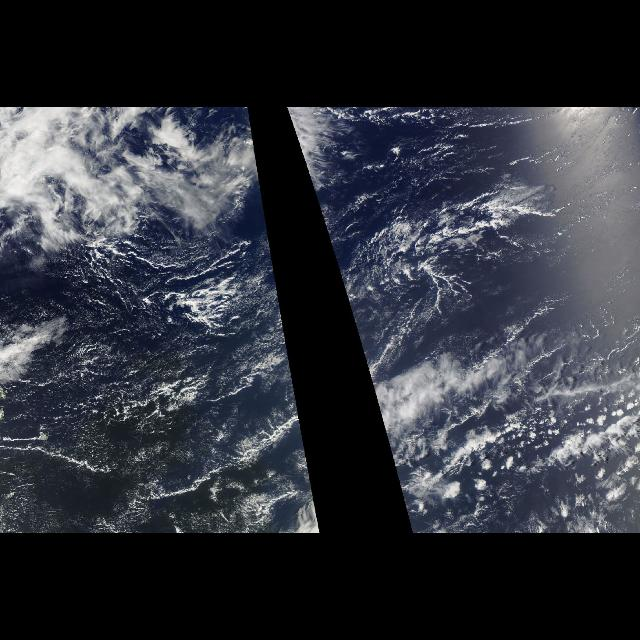Sugar: (4, 247, 322, 533)
